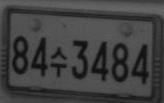3: (71, 39, 89, 79)
4: (129, 42, 150, 84), (90, 40, 110, 81), (31, 35, 49, 76)
8: (110, 41, 129, 83), (11, 34, 30, 75)
수: (49, 45, 68, 77)
